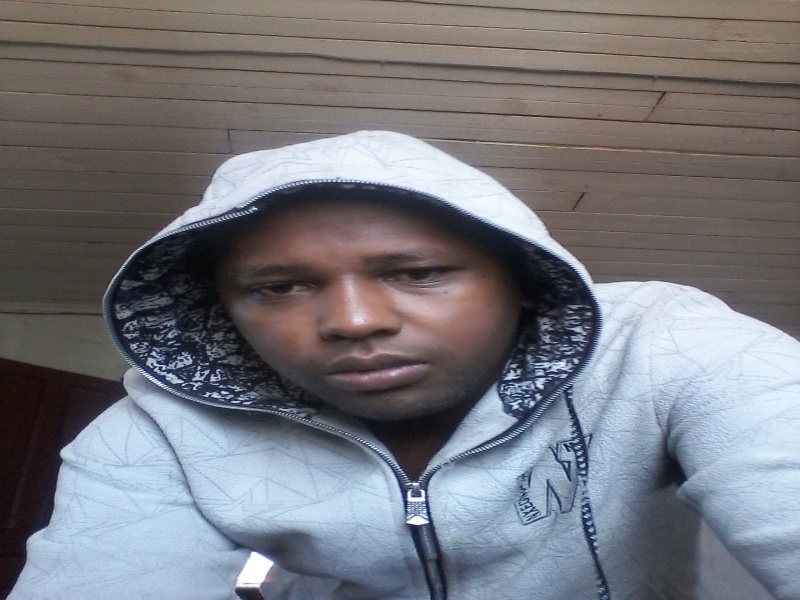TsisyArotava: (200, 160, 533, 450)
